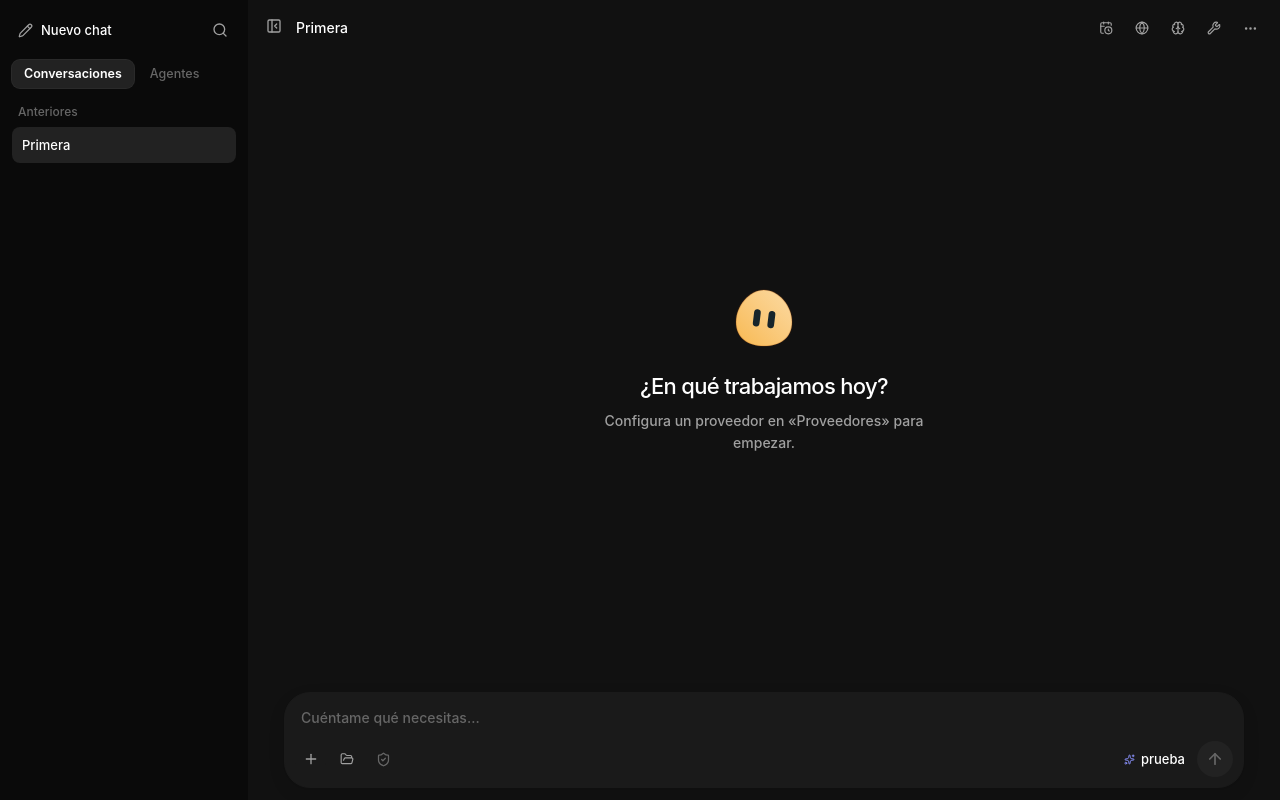
Test case: distingue bots con nombres repetidos y conserva el texto después del cursor
The width and height of the screenshot is (1280, 800).
In the text box named "Mensaje para el agente": coordinates (764, 723) [301,705,1227,741], type "Pide @ el informe"
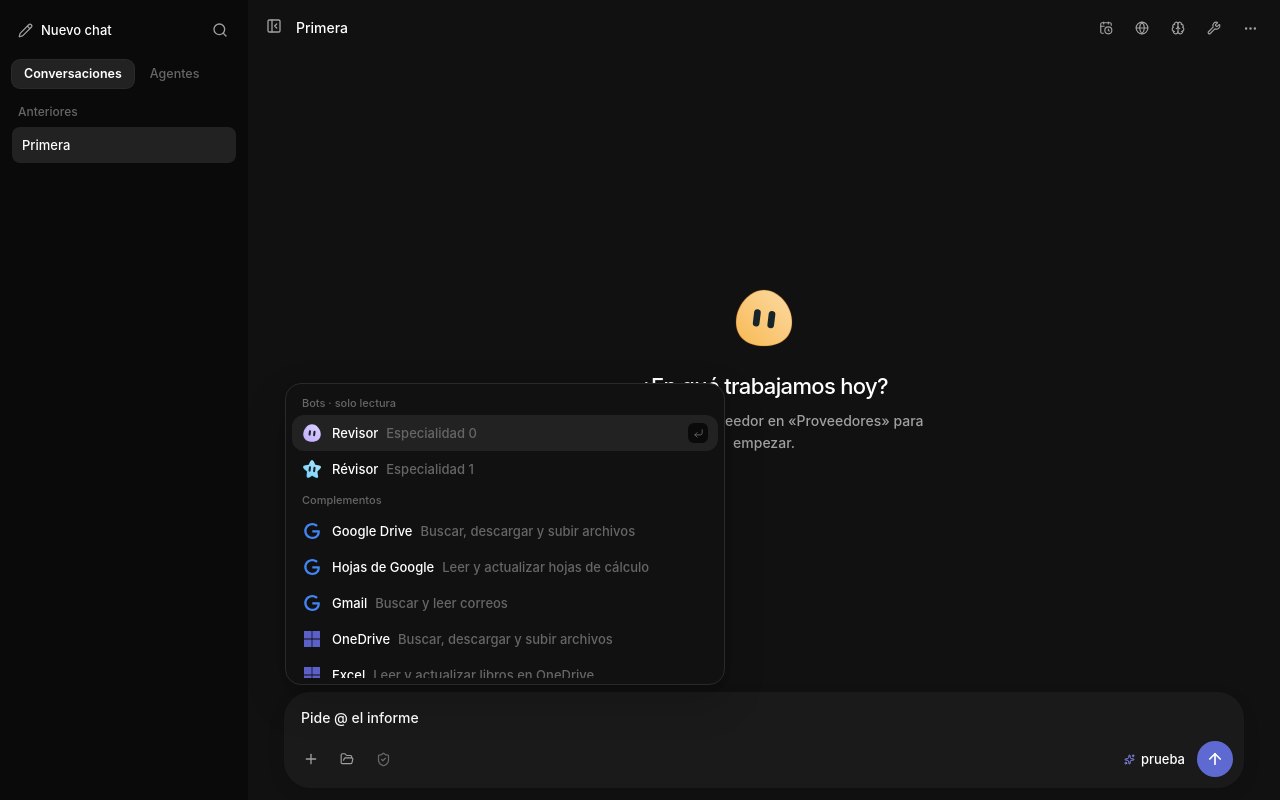
Click the option "Especialidad 1": coordinates (355, 469) [292,451,718,487]
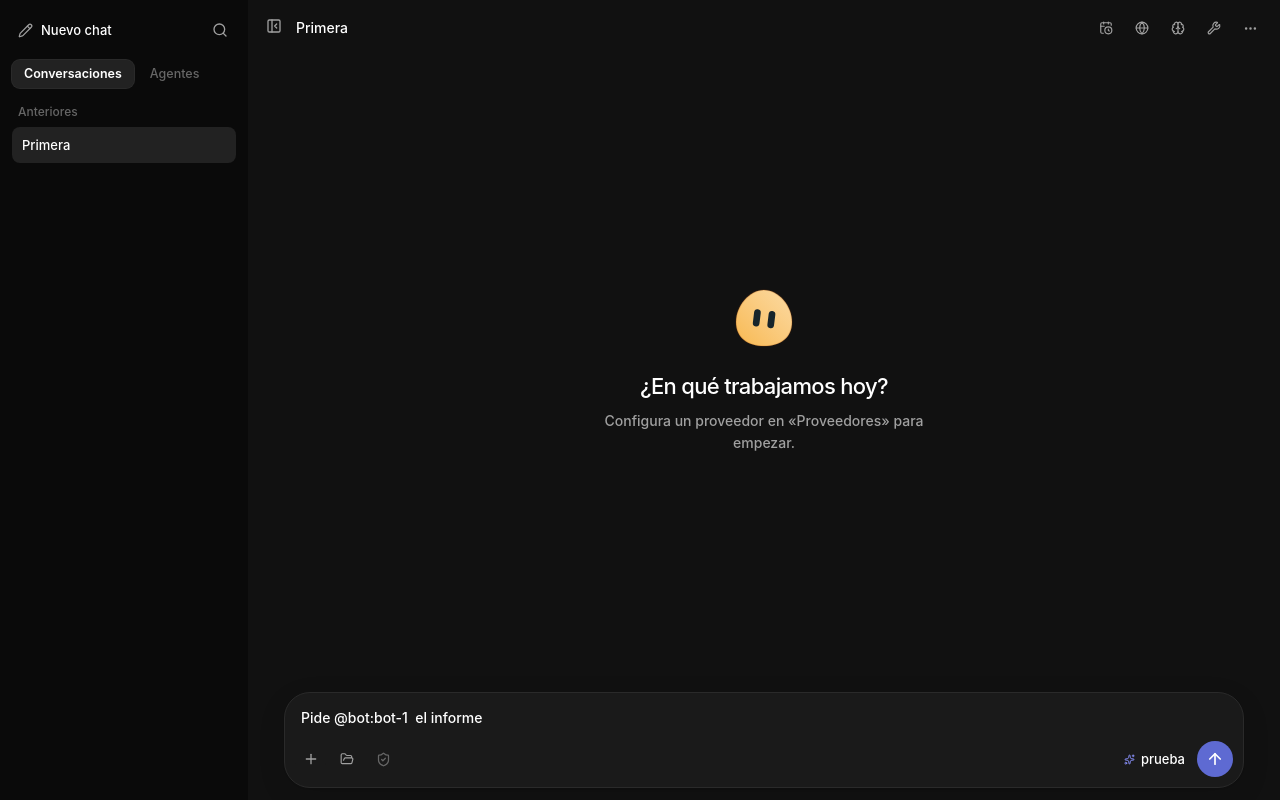
Expected: the text box named "Mensaje para el agente" holds "Pide @bot:bot-1  el informe", [301,705,1227,741]
